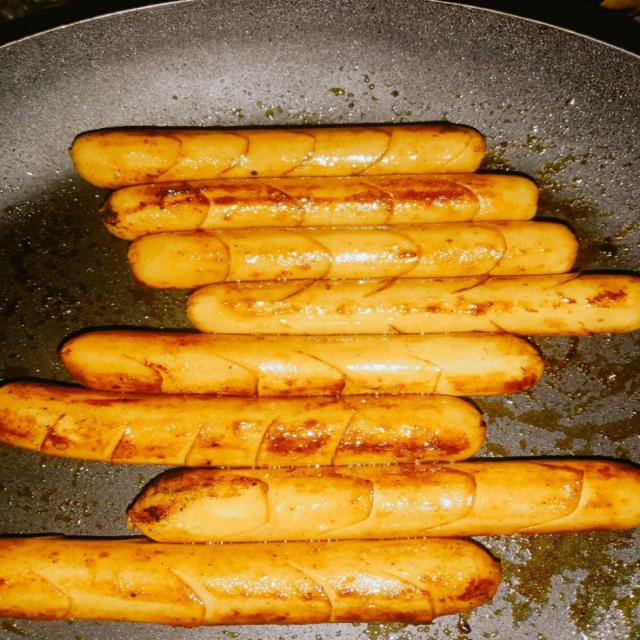sausage: (0, 537, 499, 626), (128, 459, 639, 542), (0, 383, 486, 466), (60, 330, 543, 395), (128, 222, 577, 288), (102, 174, 538, 239), (187, 273, 639, 335), (70, 123, 486, 188)
